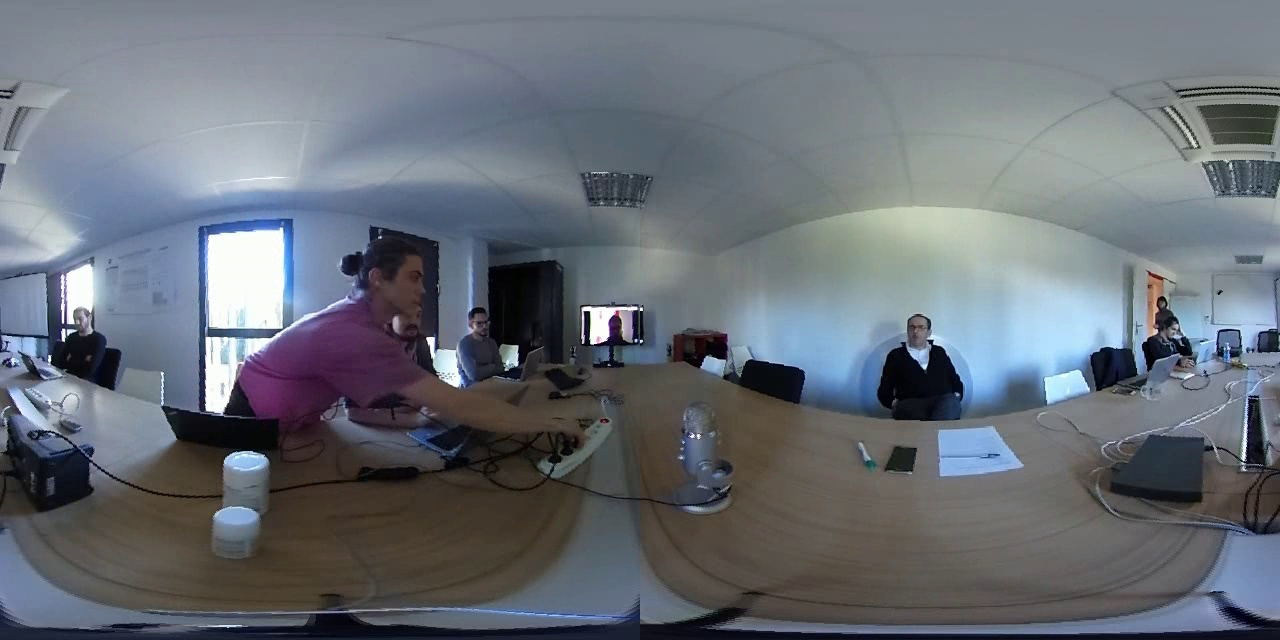person: (226, 222, 455, 446), (867, 304, 977, 418), (50, 295, 117, 382), (459, 303, 514, 371), (580, 303, 647, 344), (1138, 318, 1194, 356), (1144, 283, 1183, 325), (389, 306, 426, 346)
